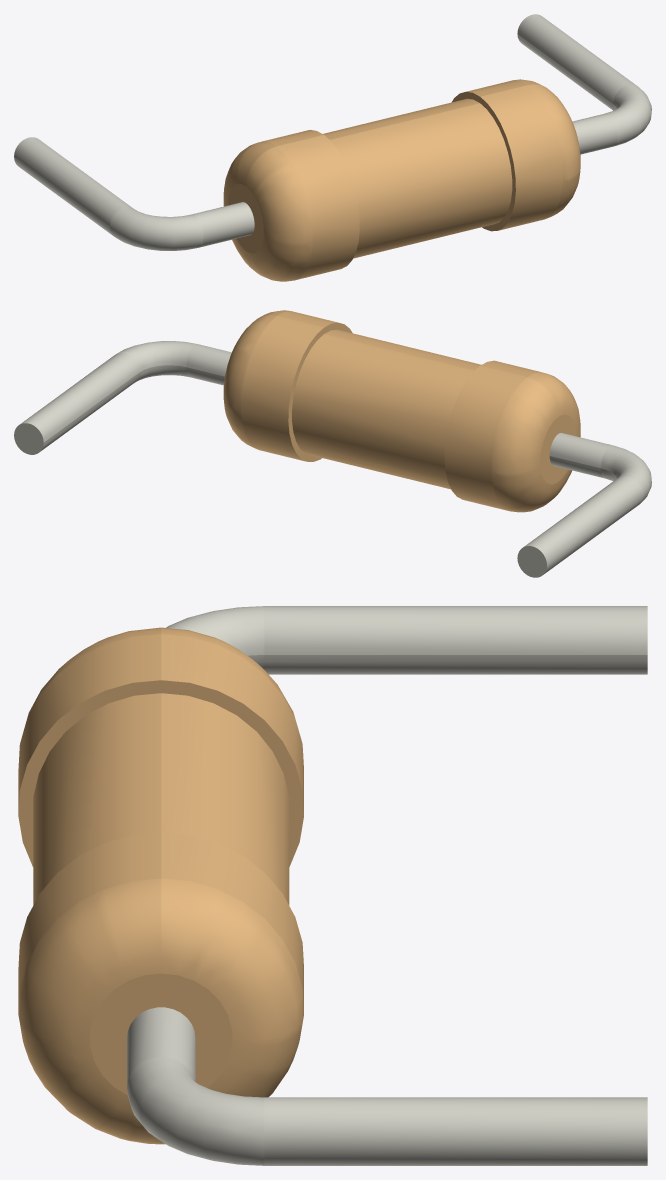
The model's file is Resistor_THT_R_Axial_DIN0207_L6.3mm_D2.5mm_P10.16mm_Horizontal.glb.
3 renders of one model, top to bottom at view 1: azimuth 30°, elevation 25°; view 2: azimuth 150°, elevation 25°; view 3: azimuth 270°, elevation 25°, orthographic. The views are drawn at different scales.
Size of the model in its own units: 10.76 by 2.49 by 5.5.
